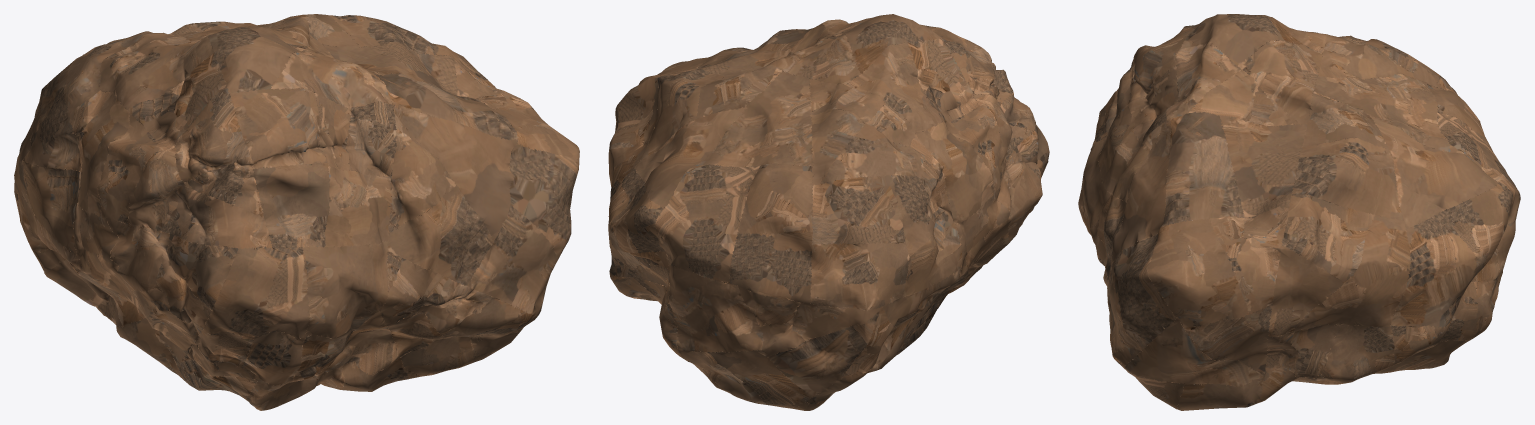
Rendered from Viên Đá 1.fbx.
The picture shows the model from 3 angles, left to right: view 1: azimuth 30°, elevation 25°; view 2: azimuth 150°, elevation 25°; view 3: azimuth 270°, elevation 25°; orthographic projection. The views are drawn at different scales.
Parts seen in each view (by area): view 1: Mesh_0; view 2: Mesh_0; view 3: Mesh_0.
Boxes of the visible parts, <box> form: Mesh_0: <box>14,14,579,410</box>; Mesh_0: <box>608,14,1049,410</box>; Mesh_0: <box>1078,14,1520,410</box>.
Size of the model in its own units: 190 by 150 by 190.
